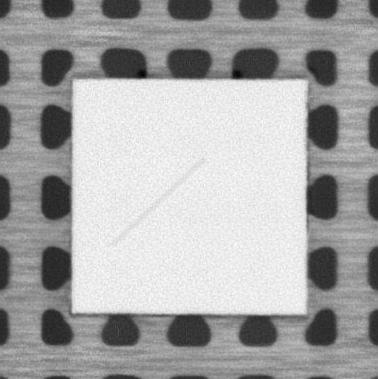DIE_CRACK: (110, 157, 207, 253)
